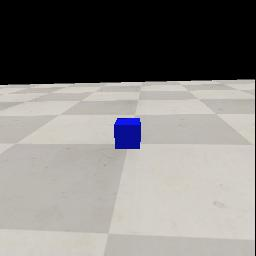box: (114, 118, 141, 149)
